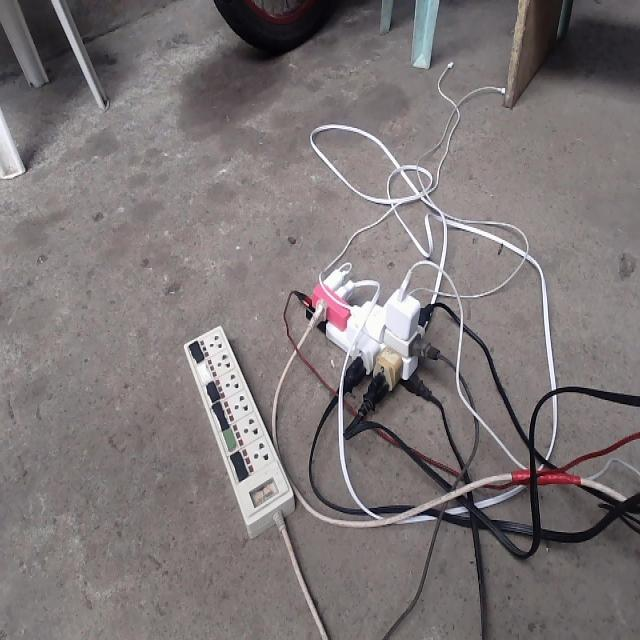-: (281, 261, 445, 408)
